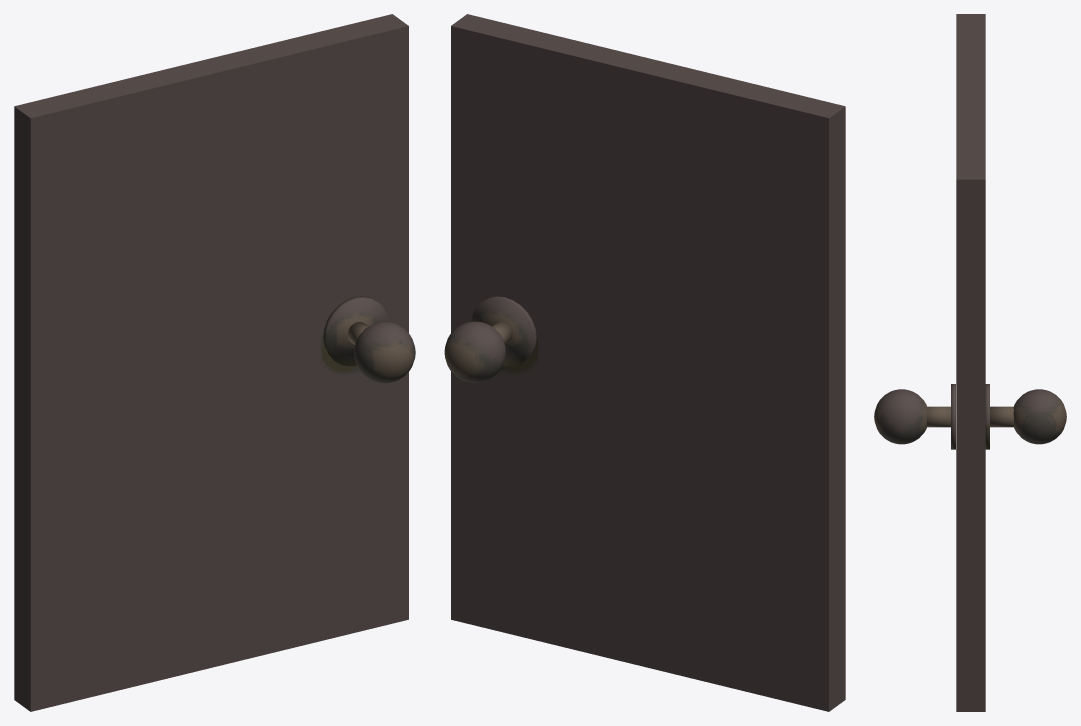
Rendered from Single_Door.fbx.
The picture shows the model from 3 angles, left to right: view 1: azimuth 30°, elevation 25°; view 2: azimuth 150°, elevation 25°; view 3: azimuth 270°, elevation 25°; orthographic projection. The views are drawn at different scales.
Parts seen in each view (by area): view 1: Door; view 2: Door; view 3: Door.
Boxes of the visible parts, x1=… form: Door: x1=14, y1=14, x2=415, y2=711; Door: x1=444, y1=14, x2=845, y2=711; Door: x1=874, y1=14, x2=1066, y2=711.
Size of the model in its own units: 4 by 6 by 1.97.
Materials: 1 (1 with a texture image).
